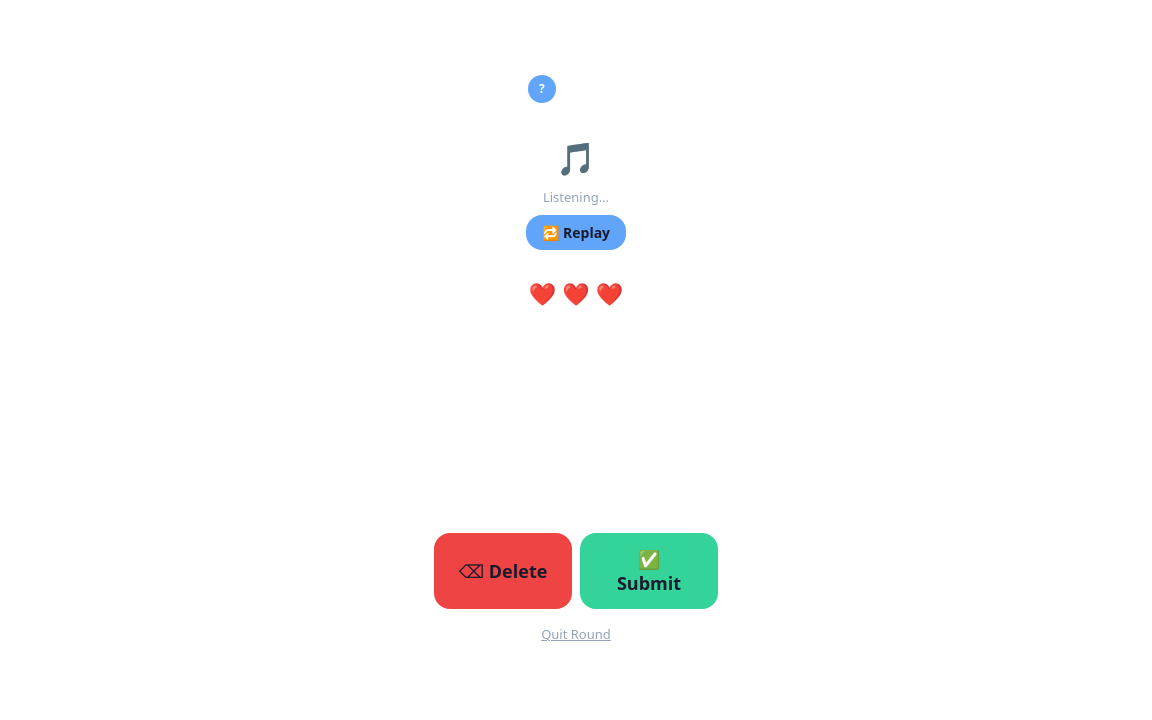
Scenario: Stage2Screen quit confirmation › dismisses confirmation when "Keep Going" is clicked
This screenshot has width=1152, height=720.
Step 1. Click the text with test id "quit-button" → (576, 634), box [541,625,611,643]
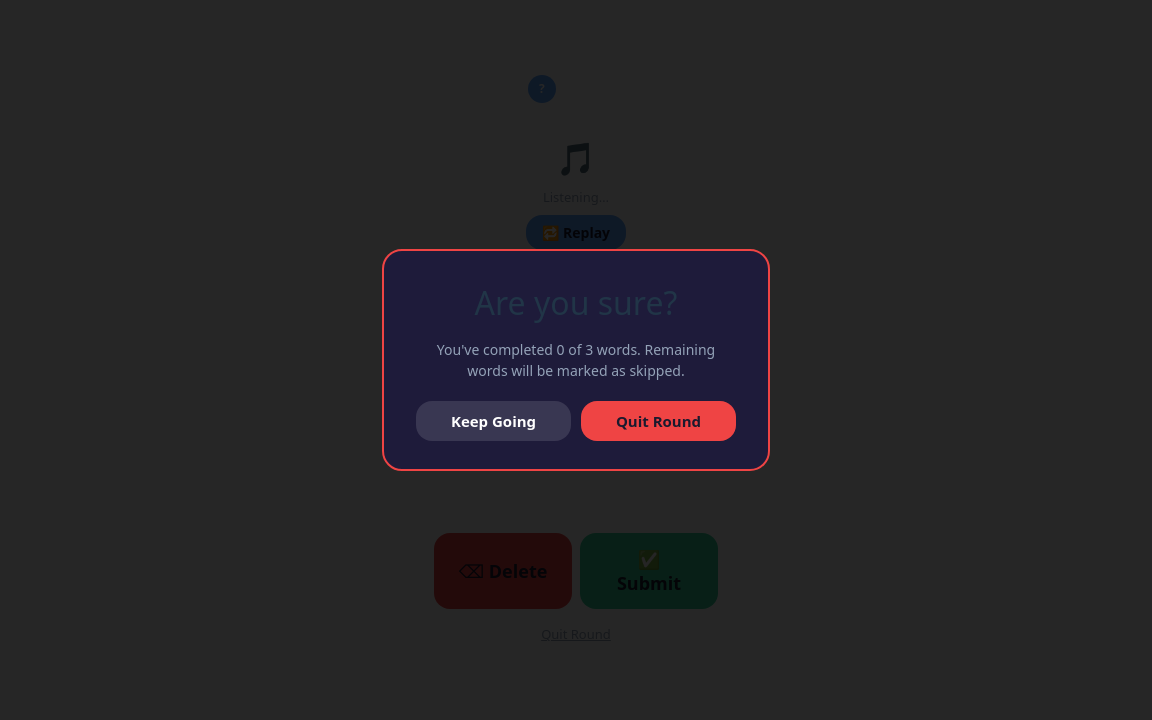
Expected: the element with test id "quit-confirm" is shown
Step 2. Click the button "Keep Going" → (494, 421), box [416,401,571,441]
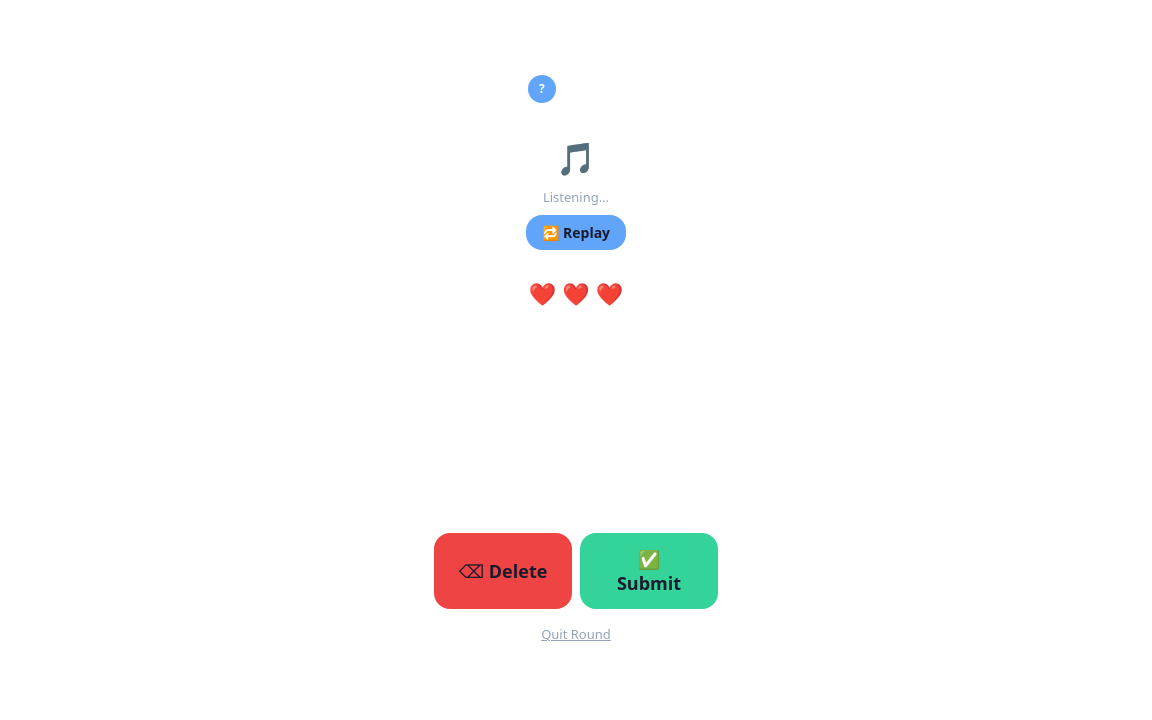
Expected: the element with test id "quit-confirm" is gone
